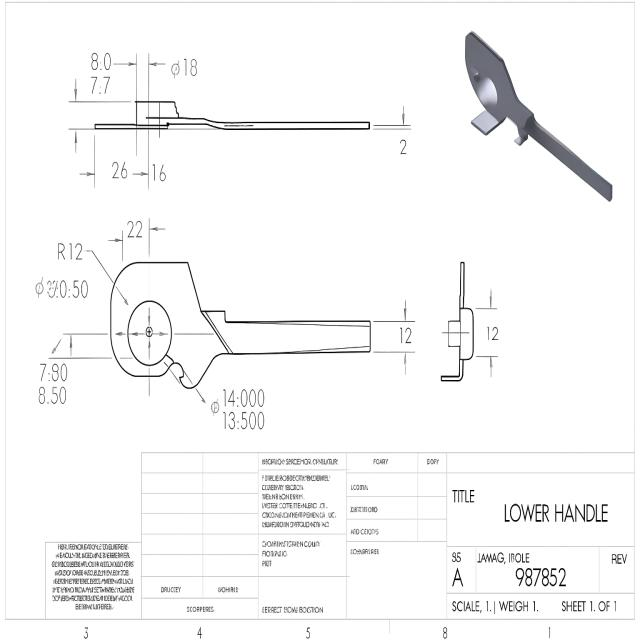Isometric view: (459, 27, 624, 210)
Sectional view: (63, 48, 414, 198), (436, 255, 506, 395)
Table 1: (140, 450, 638, 623)
Top view: (36, 212, 418, 434)
text1: (42, 537, 138, 621)
